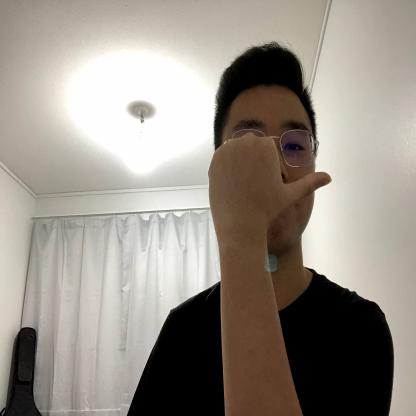left: (206, 131, 334, 244)
